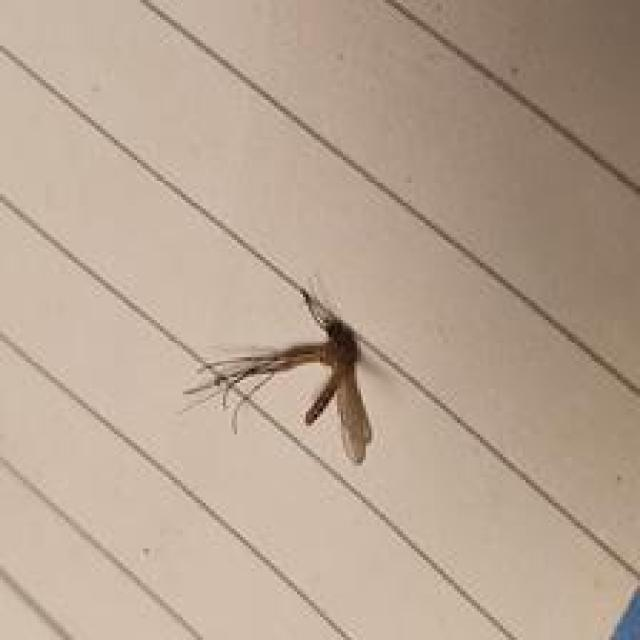Culex: (181, 286, 376, 466)
